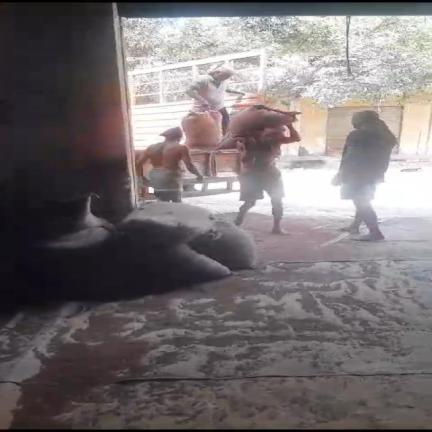Zone-Counting: (217, 105, 300, 234)
